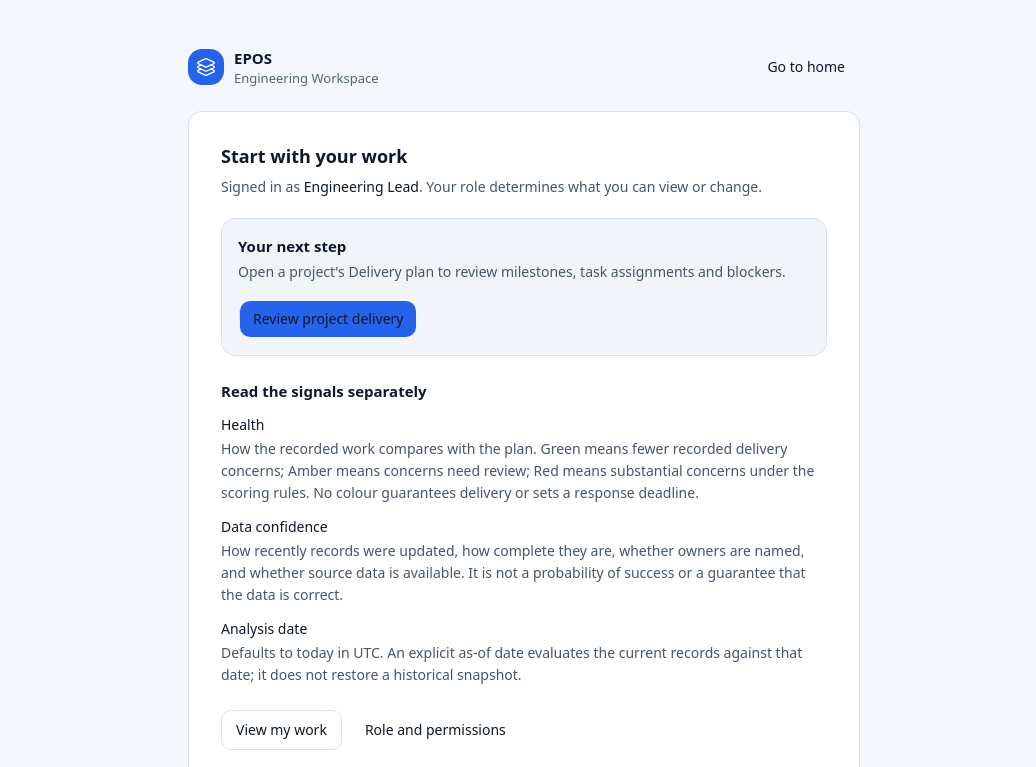
Test: OnboardingPage › provides a role-focused next step for engineering_lead
expect the text "Engineering Lead" is shown: met, box [304,177,419,196]
Click the button named "Review project delivery" below "Your next step" at (328, 319), box [238,299,418,339]
(page scrolled)
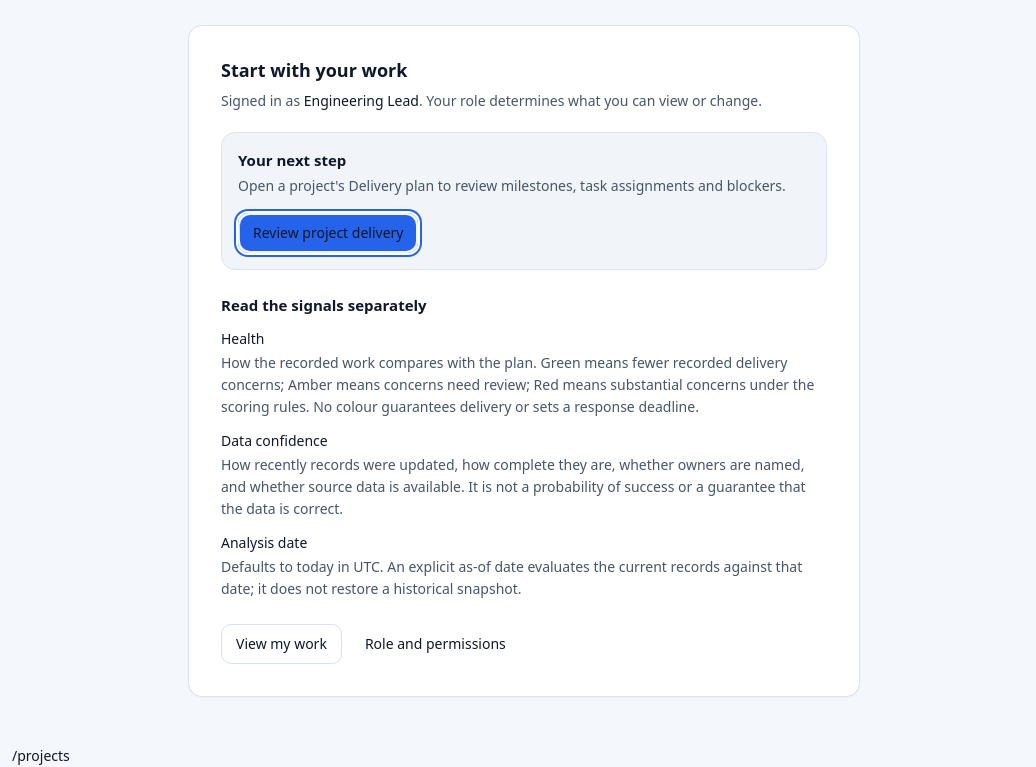
expect the text named "Destination" reads "/projects": met, box [12,746,70,765]
